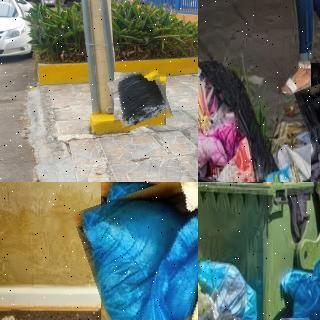Garbage: (86, 182, 198, 320), (198, 257, 257, 320), (110, 69, 170, 128), (278, 255, 320, 320)
